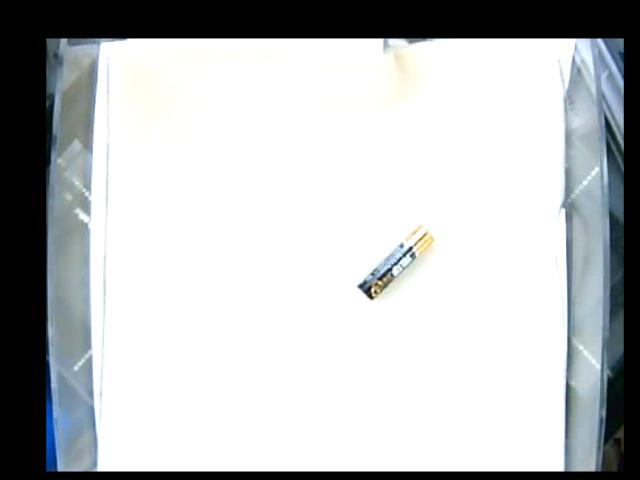Battery: (352, 226, 432, 299)
